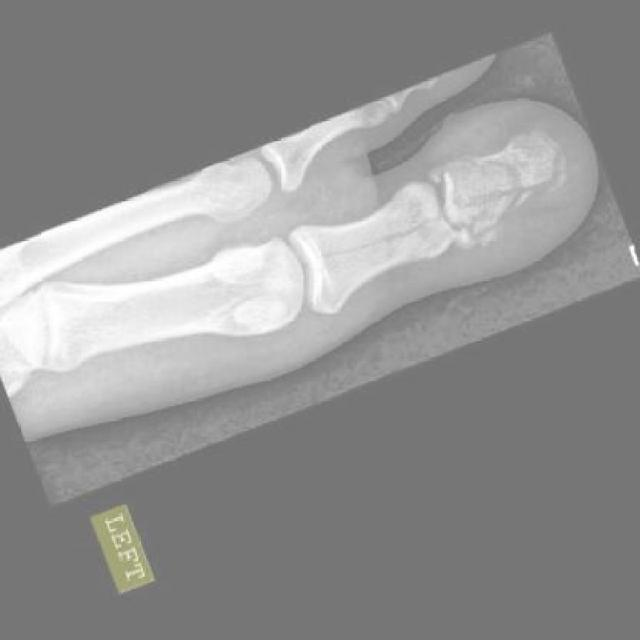Fracture: (416, 114, 593, 260)
